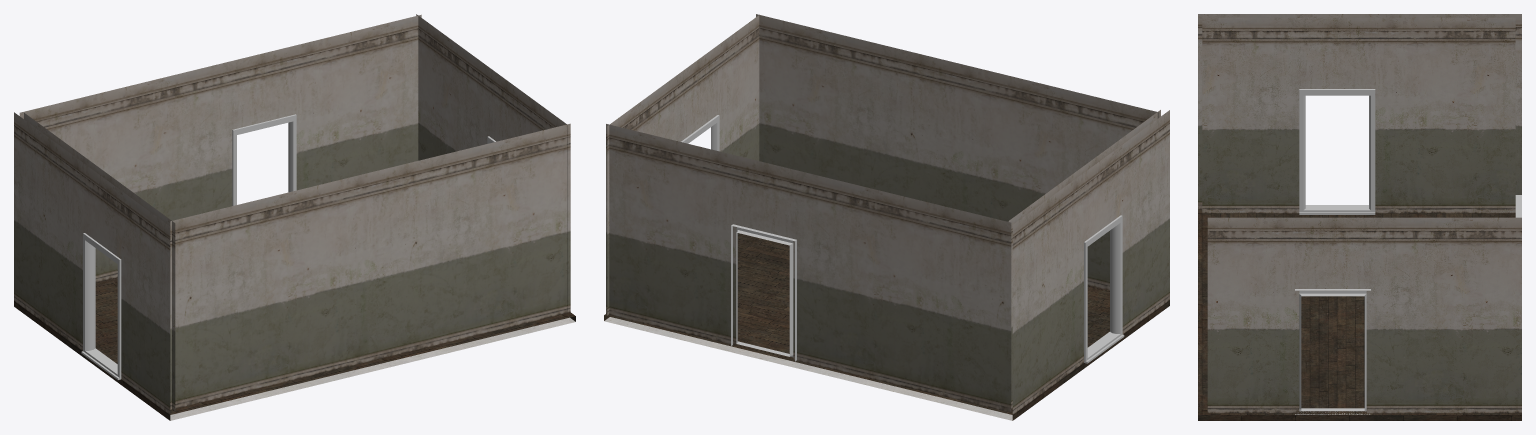
File: room_6m_x_9m_door_left_back.fbx
3 views of the same model, side by side, from view 1: azimuth 30°, elevation 25°; view 2: azimuth 150°, elevation 25°; view 3: azimuth 270°, elevation 25° (orthographic). The views are drawn at different scales.
Visible parts, largest first — view 1: room_6m_x_9m_door_left_back; view 2: room_6m_x_9m_door_left_back; view 3: room_6m_x_9m_door_left_back.
Boxes of the visible parts, box(x1,y1,x2,y2) form: room_6m_x_9m_door_left_back: box(14, 14, 575, 420); room_6m_x_9m_door_left_back: box(604, 14, 1169, 420); room_6m_x_9m_door_left_back: box(1198, 14, 1521, 420).
Size of the model in its own units: 908 by 412 by 600.
